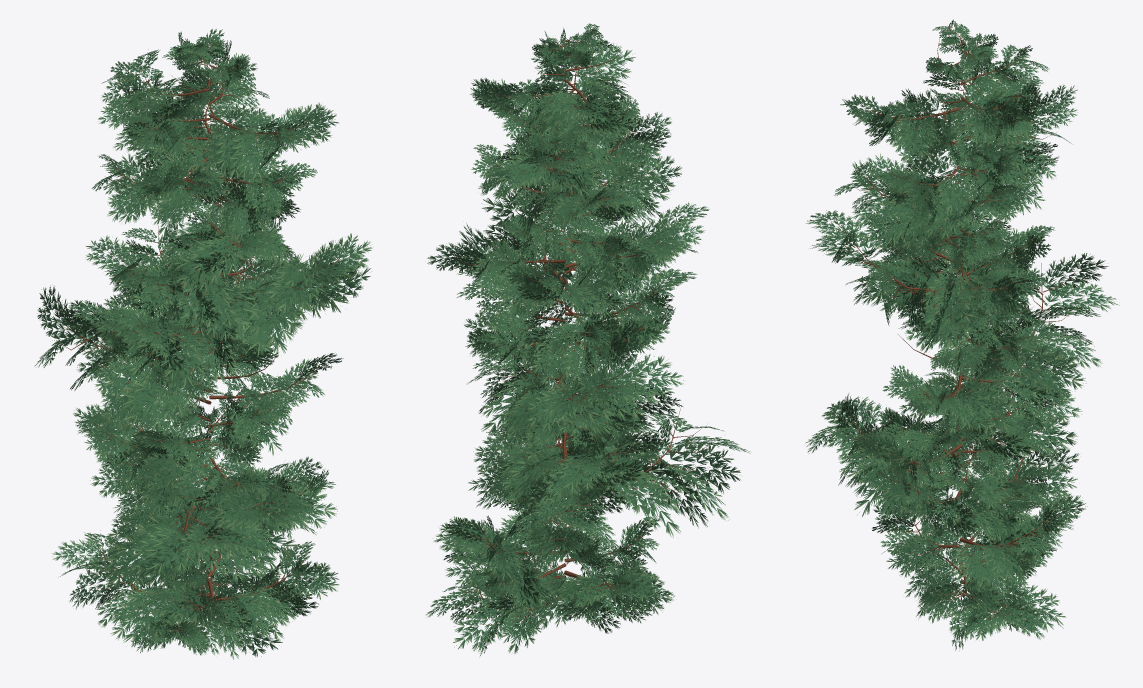
Rendered from forest-pine-lod1.meshopt.glb.
3 views of the same model, side by side, from view 1: azimuth 30°, elevation 25°; view 2: azimuth 150°, elevation 25°; view 3: azimuth 270°, elevation 25° (orthographic). The views are drawn at different scales.
Visible parts, largest first — view 1: redwood-crown; view 2: redwood-crown; view 3: redwood-crown.
Part boxes in pixels (box(x1,y1,x2,y2)): redwood-crown: box(34, 29, 372, 659); redwood-crown: box(426, 23, 750, 655); redwood-crown: box(805, 19, 1119, 650).
Bounding box in the file's own units: 18.19 × 38.68 × 19.55.
4 materials, 3 textured.
